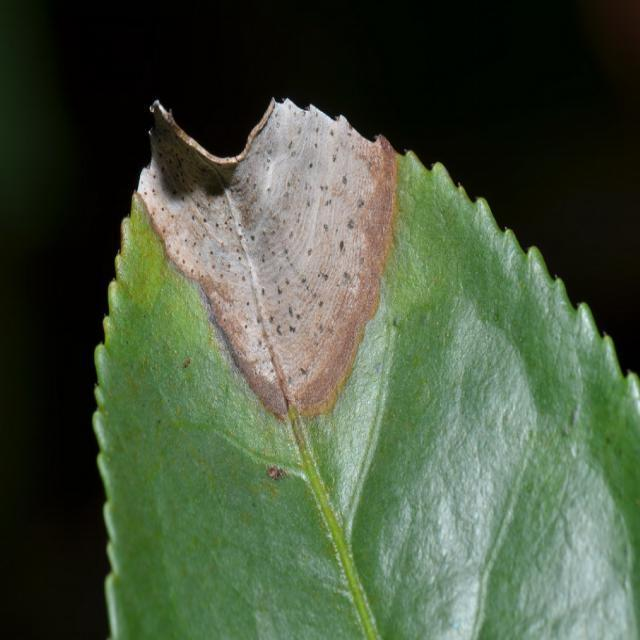Tea cloud leaf blight: (135, 81, 399, 430)
